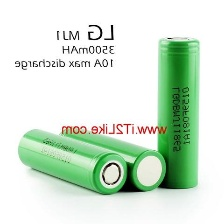battery: (16, 123, 131, 198), (53, 125, 170, 194), (155, 33, 202, 192)
